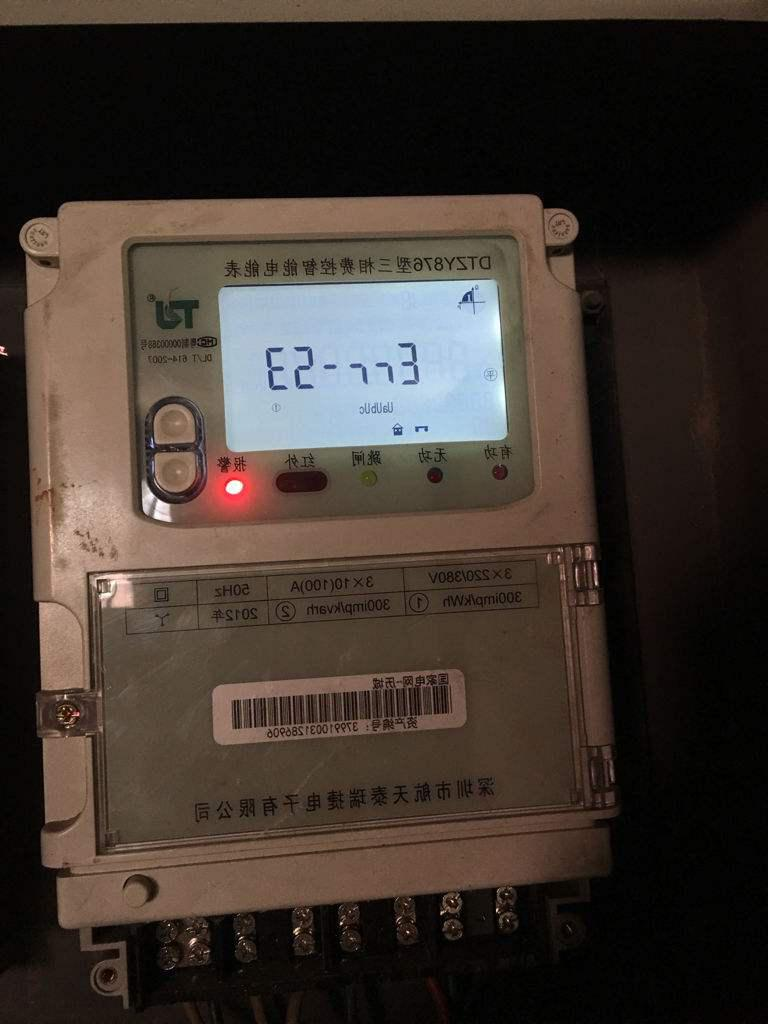digital: (25, 195, 617, 866)
